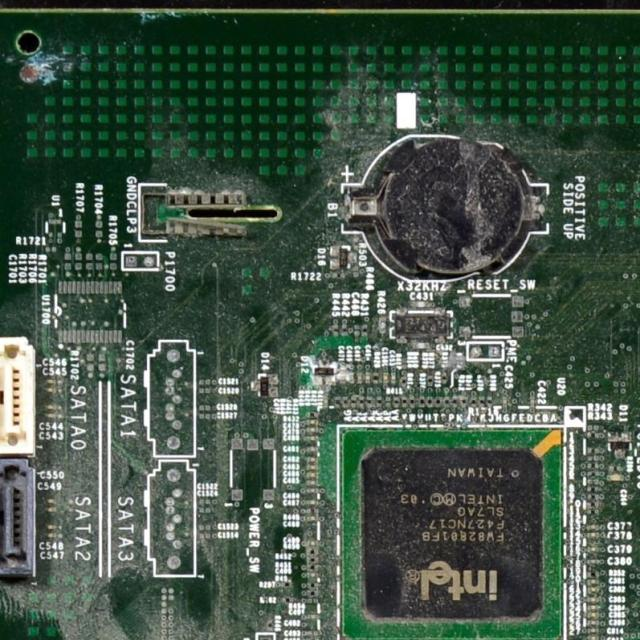IC: (364, 448, 542, 621), (390, 314, 450, 338)
capacitor: (62, 252, 72, 280), (584, 522, 603, 531), (606, 474, 624, 482), (41, 505, 58, 513), (351, 325, 361, 338), (585, 578, 600, 586), (348, 372, 357, 384), (42, 532, 62, 537), (41, 499, 57, 505), (44, 524, 60, 530), (585, 546, 601, 552), (339, 371, 346, 384), (382, 372, 389, 385), (585, 628, 598, 635), (587, 558, 602, 564), (587, 605, 598, 613), (356, 372, 362, 386), (586, 620, 595, 629), (305, 427, 318, 433), (305, 480, 318, 486), (587, 612, 598, 619), (392, 372, 398, 384), (590, 588, 600, 595), (306, 420, 317, 426), (584, 598, 600, 602), (366, 372, 371, 384), (306, 436, 318, 441), (308, 472, 318, 478), (586, 635, 598, 640), (583, 534, 602, 537), (309, 464, 317, 470), (305, 458, 319, 461)
resistor: (91, 253, 104, 276), (73, 252, 85, 275), (109, 252, 119, 276), (84, 253, 94, 276), (340, 245, 348, 269), (331, 320, 341, 338), (68, 340, 80, 355), (341, 318, 350, 337), (256, 631, 273, 640), (379, 318, 386, 337), (329, 272, 347, 279), (372, 369, 379, 386), (440, 372, 448, 385), (400, 376, 408, 388), (376, 395, 383, 408), (460, 397, 467, 410), (470, 398, 479, 408), (588, 447, 597, 457), (586, 572, 601, 578), (451, 397, 459, 408), (359, 324, 366, 336), (365, 396, 372, 408), (351, 396, 357, 410), (418, 397, 426, 407), (587, 431, 597, 439), (334, 397, 340, 410), (308, 563, 319, 570), (394, 397, 400, 409), (342, 397, 348, 409), (589, 492, 597, 501), (588, 502, 600, 508), (353, 238, 358, 252), (307, 548, 317, 555), (282, 581, 292, 588), (436, 398, 442, 409), (266, 620, 272, 631), (586, 464, 599, 469), (358, 398, 364, 408), (408, 398, 414, 408), (401, 398, 407, 408), (478, 398, 484, 408), (444, 398, 450, 408), (308, 556, 318, 562), (308, 582, 318, 588), (586, 510, 600, 514), (427, 376, 432, 387), (487, 396, 492, 407), (428, 396, 433, 406), (282, 597, 292, 602), (588, 471, 596, 477), (587, 487, 597, 491), (308, 592, 318, 596), (304, 639, 320, 640)
